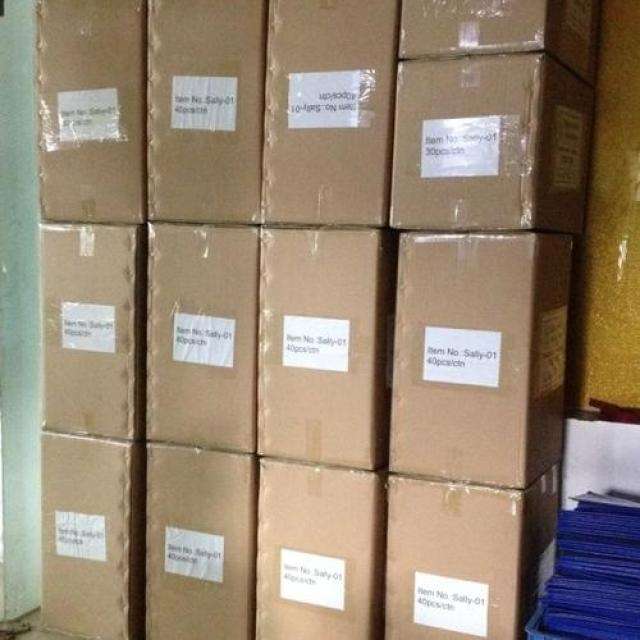box: (388, 232, 585, 490), (388, 51, 598, 232), (381, 461, 560, 638), (259, 226, 387, 471), (262, 3, 400, 227), (147, 0, 265, 226), (147, 223, 258, 453), (36, 1, 147, 225), (38, 219, 147, 446), (255, 456, 385, 639), (38, 429, 147, 637), (145, 444, 258, 638), (401, 1, 600, 84)
